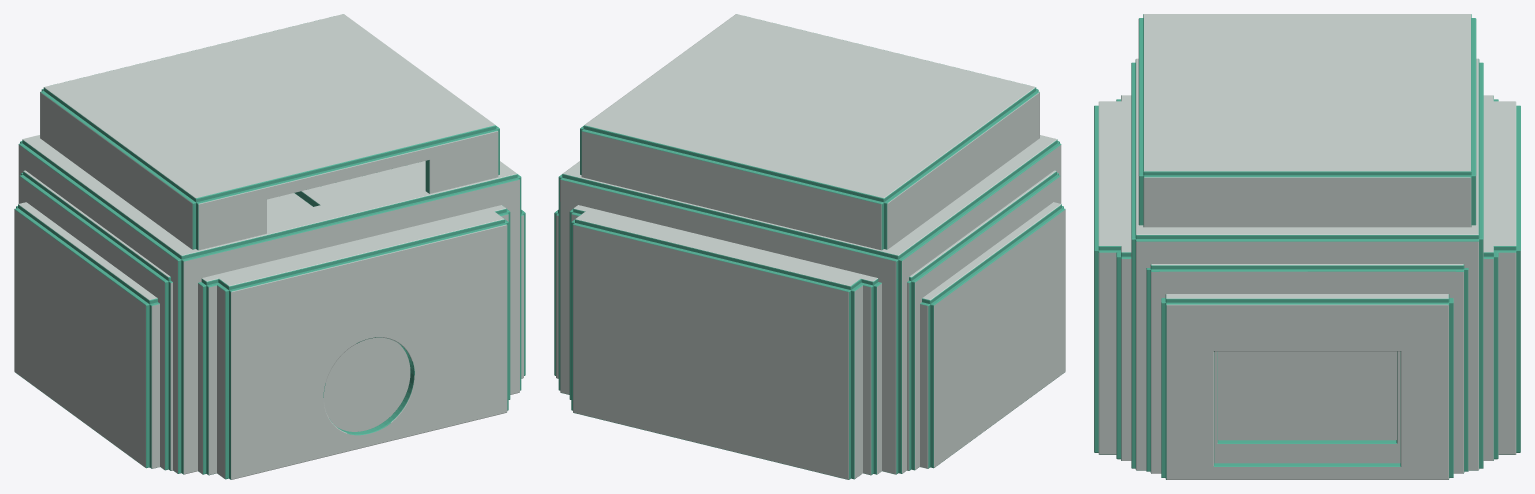
The model's file is glass_box.glb.
3 views of the same model, side by side, from view 1: azimuth 30°, elevation 25°; view 2: azimuth 150°, elevation 25°; view 3: azimuth 270°, elevation 25° (orthographic). The views are drawn at different scales.
Visible parts, largest first — view 1: L35_top, L41_front, L42_front, L20_top, L7_left, L36_front, L36_top, L19_front, L35_left, L20_front, L36_left, L35_front (+14 smaller); view 2: L41_back, L35_top, L7_left, L20_top, L35_back, L36_back, L20_back, L35_left, L36_left, L41_top, L36_top, L7_back (+12 smaller); view 3: L20_top, L35_top, L7_right, L36_right, L35_right, L5_right, L41_top, L41_right, L2_right, L36_top, L19_right, L10_right (+19 smaller).
Part boxes in pixels (box(x1,y1,x2,y2)): L35_top: box(43, 14, 496, 202); L41_front: box(229, 223, 507, 479); L42_front: box(231, 226, 506, 478); L20_top: box(57, 18, 483, 198); L7_left: box(14, 208, 149, 468); L36_front: box(181, 177, 519, 474); L36_top: box(22, 135, 517, 259); L19_front: box(206, 212, 508, 475); L35_left: box(40, 91, 195, 249); L20_front: box(209, 132, 485, 246); L36_left: box(18, 143, 181, 473); L35_front: box(196, 129, 498, 250); L41_back: box(573, 223, 850, 479); L35_top: box(583, 14, 1036, 202); L7_left: box(930, 208, 1065, 468); L20_top: box(596, 17, 1022, 198); L35_back: box(581, 129, 883, 250); L36_back: box(560, 177, 898, 474); L20_back: box(594, 132, 870, 246); L35_left: box(884, 91, 1039, 249); L36_left: box(898, 143, 1061, 473); L41_top: box(575, 208, 865, 289); L36_top: box(562, 135, 1057, 259); L7_back: box(556, 213, 930, 468); L20_top: box(1144, 20, 1470, 164); L35_top: box(1143, 14, 1471, 175); L7_right: box(1165, 302, 1449, 479); L36_right: box(1135, 239, 1479, 470); L35_right: box(1143, 175, 1471, 227); L5_right: box(1150, 269, 1464, 473); L41_top: box(1098, 101, 1516, 250); L41_right: box(1098, 250, 1516, 454); L2_right: box(1159, 285, 1455, 473); L36_top: box(1135, 58, 1479, 238); L19_right: box(1121, 256, 1493, 460); L10_right: box(1159, 269, 1455, 472).
Size of the model in its own units: 0.632 by 0.426 by 0.572.
